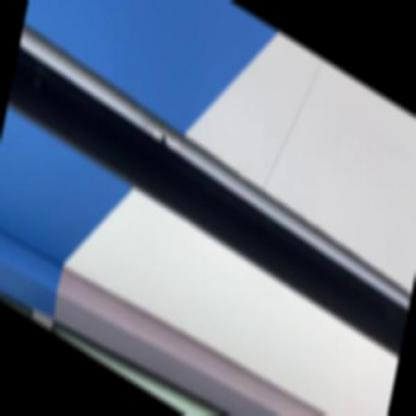light_off: (12, 0, 416, 340)
